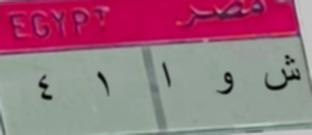1: (85, 66, 118, 100)
4: (35, 68, 56, 107)
alif: (155, 59, 178, 89)
sheen: (262, 51, 304, 98)
waw: (213, 68, 240, 101)
